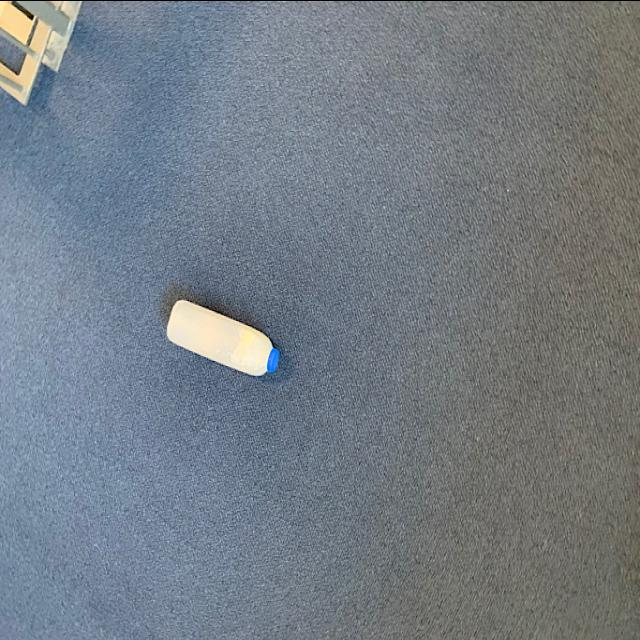HDPEM: (164, 296, 280, 380)
